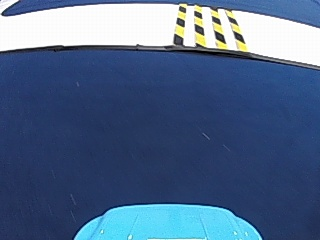bump: (165, 5, 246, 49)
